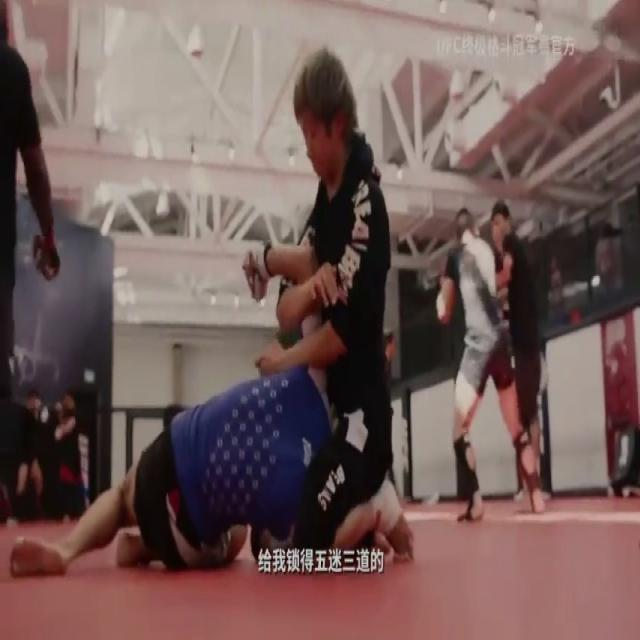fight: (9, 49, 416, 580), (433, 195, 543, 525)
